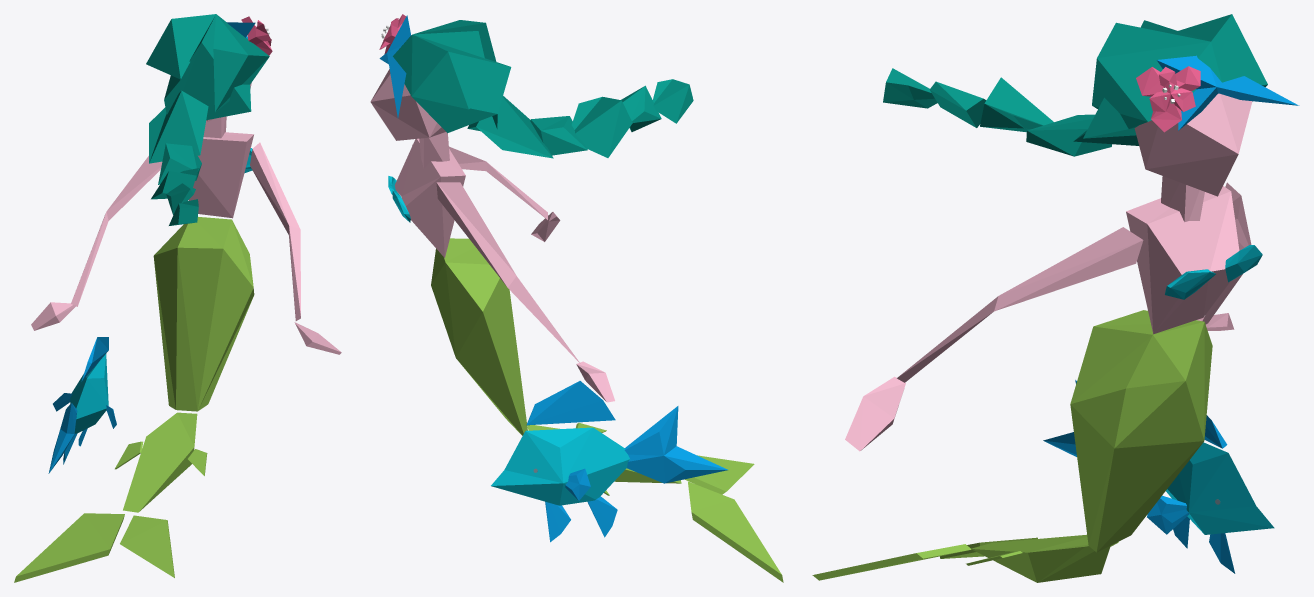
File: Mermaid.glb
3 renders of one model, left to right at view 1: azimuth 30°, elevation 25°; view 2: azimuth 150°, elevation 25°; view 3: azimuth 270°, elevation 25°, orthographic. The views are drawn at different scales.
Visible parts, largest first — view 1: group223299251, group503209399, group125484008, group1856354757, group1745740949, group870734988, group1432052318, group22092427, group139779055, group2066883279, group472958894, group2036632433 (+5 smaller); view 2: group1745740949, group223299251, group503209399, group1856354757, group2066883279, group870734988, group2036632433, group628262254, group1432052318, group472958894, group212830541, group139779055 (+6 smaller); view 3: group223299251, group503209399, group1856354757, group1745740949, group628262254, group22092427, group125484008, group1384870149, group1914318908, group2108276498, group2036632433, group472958894 (+7 smaller).
Part boxes in pixels (bbox=[...]): group223299251: bbox=[153, 217, 254, 411]; group503209399: bbox=[146, 14, 269, 120]; group125484008: bbox=[123, 412, 197, 512]; group1856354757: bbox=[188, 132, 253, 218]; group1745740949: bbox=[48, 337, 116, 473]; group870734988: bbox=[14, 513, 124, 582]; group1432052318: bbox=[149, 90, 208, 163]; group22092427: bbox=[250, 142, 300, 320]; group139779055: bbox=[120, 515, 174, 577]; group2066883279: bbox=[71, 156, 162, 306]; group472958894: bbox=[158, 143, 201, 184]; group2036632433: bbox=[151, 168, 198, 199]; group1745740949: bbox=[491, 381, 727, 542]; group223299251: bbox=[431, 238, 527, 435]; group503209399: bbox=[393, 20, 511, 133]; group1856354757: bbox=[394, 138, 465, 257]; group2066883279: bbox=[436, 182, 580, 363]; group870734988: bbox=[688, 481, 783, 582]; group2036632433: bbox=[571, 96, 632, 157]; group628262254: bbox=[370, 69, 445, 140]; group1432052318: bbox=[467, 96, 553, 158]; group472958894: bbox=[530, 116, 587, 155]; group212830541: bbox=[652, 79, 693, 123]; group139779055: bbox=[684, 455, 754, 494]; group223299251: bbox=[1070, 310, 1212, 552]; group503209399: bbox=[1083, 14, 1267, 138]; group1856354757: bbox=[1126, 186, 1239, 334]; group1745740949: bbox=[1043, 380, 1274, 573]; group628262254: bbox=[1134, 93, 1252, 196]; group22092427: bbox=[897, 227, 1143, 382]; group125484008: bbox=[971, 534, 1110, 582]; group1384870149: bbox=[1136, 66, 1200, 132]; group1914318908: bbox=[1157, 55, 1299, 130]; group2108276498: bbox=[845, 376, 905, 451]; group2036632433: bbox=[980, 77, 1053, 132]; group472958894: bbox=[1026, 114, 1111, 156].
Size of the model in its own units: 1.15 by 1.67 by 1.03.
